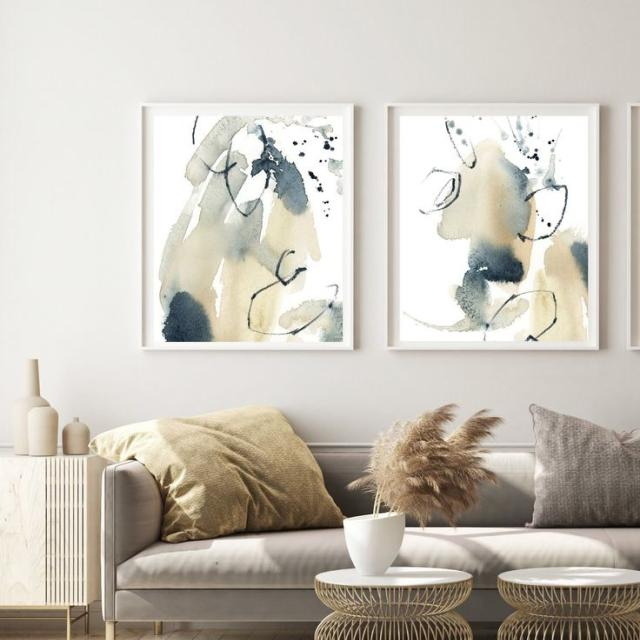painting: (140, 101, 355, 351), (385, 102, 600, 352)
